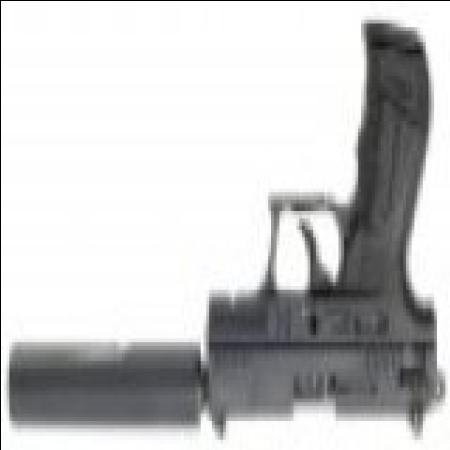Pistol: (9, 33, 441, 442)
